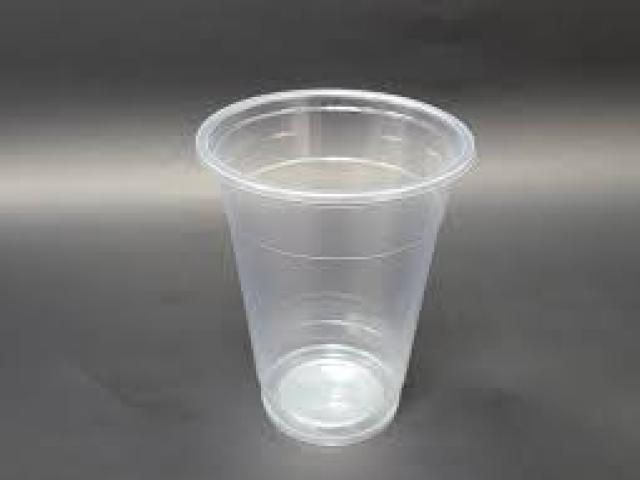cup: (196, 89, 476, 445)
